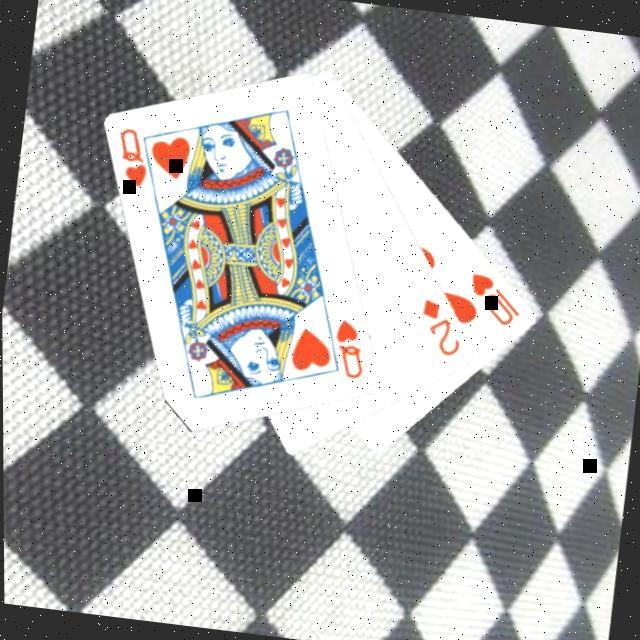10H: (463, 268, 528, 329)
2D: (414, 293, 469, 360)
QH: (111, 122, 168, 195), (327, 314, 373, 382)
